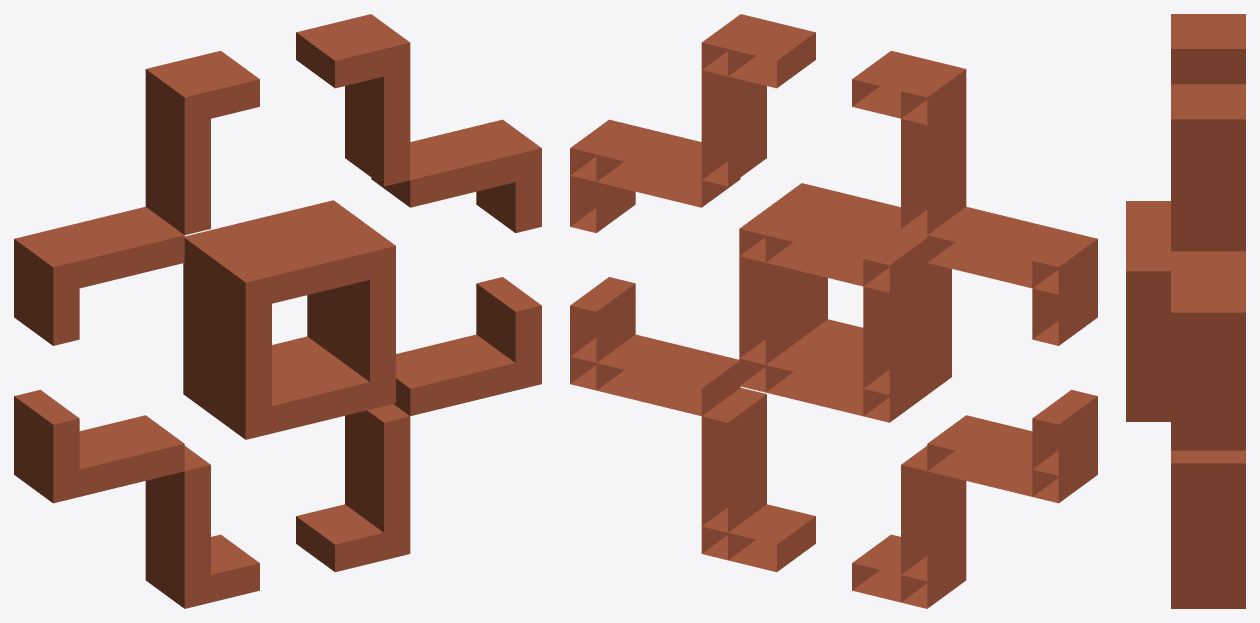
File: construction_0.glb
3 renders of one model, left to right at view 1: azimuth 30°, elevation 25°; view 2: azimuth 150°, elevation 25°; view 3: azimuth 270°, elevation 25°, orthographic. The views are drawn at different scales.
Visible parts, largest first — view 1: c0_shell; view 2: c0_shell; view 3: c0_shell.
Part boxes in pixels (left/top/right/bottom): c0_shell: left=14, top=14, right=541, bottom=608; c0_shell: left=570, top=14, right=1097, bottom=608; c0_shell: left=1126, top=14, right=1245, bottom=608.
Bounding box in the file's own units: 13 × 13 × 2.88.
